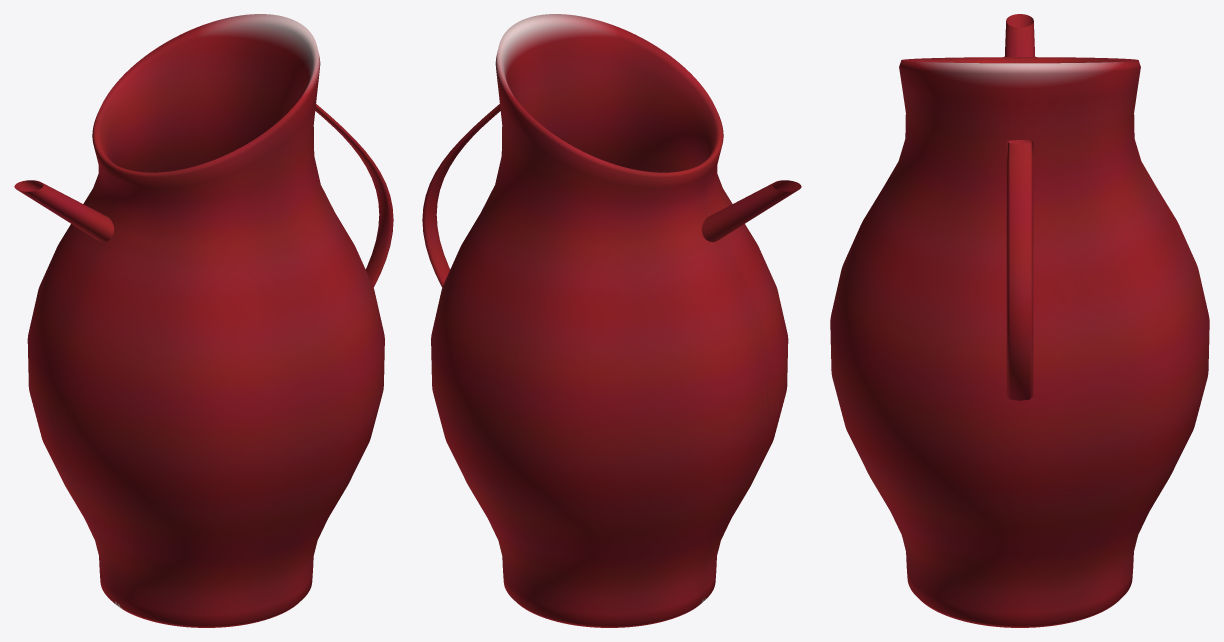
The model's file is MingXuande_MonkCapTeapot_Master.glb.
The picture shows the model from 3 angles, left to right: view 1: azimuth 30°, elevation 25°; view 2: azimuth 150°, elevation 25°; view 3: azimuth 270°, elevation 25°; orthographic projection. The views are drawn at different scales.
Parts seen in each view (by area): view 1: MingXuande_MonkCapTeapot_Ultra; view 2: MingXuande_MonkCapTeapot_Ultra; view 3: MingXuande_MonkCapTeapot_Ultra.
Boxes of the visible parts, x1,y1,x2,y2 form: MingXuande_MonkCapTeapot_Ultra: (14, 14, 393, 627); MingXuande_MonkCapTeapot_Ultra: (422, 14, 801, 627); MingXuande_MonkCapTeapot_Ultra: (830, 14, 1209, 627).
Bounding box in the file's own units: 0.19 × 0.26 × 0.1571.
1 material, 1 textured.
